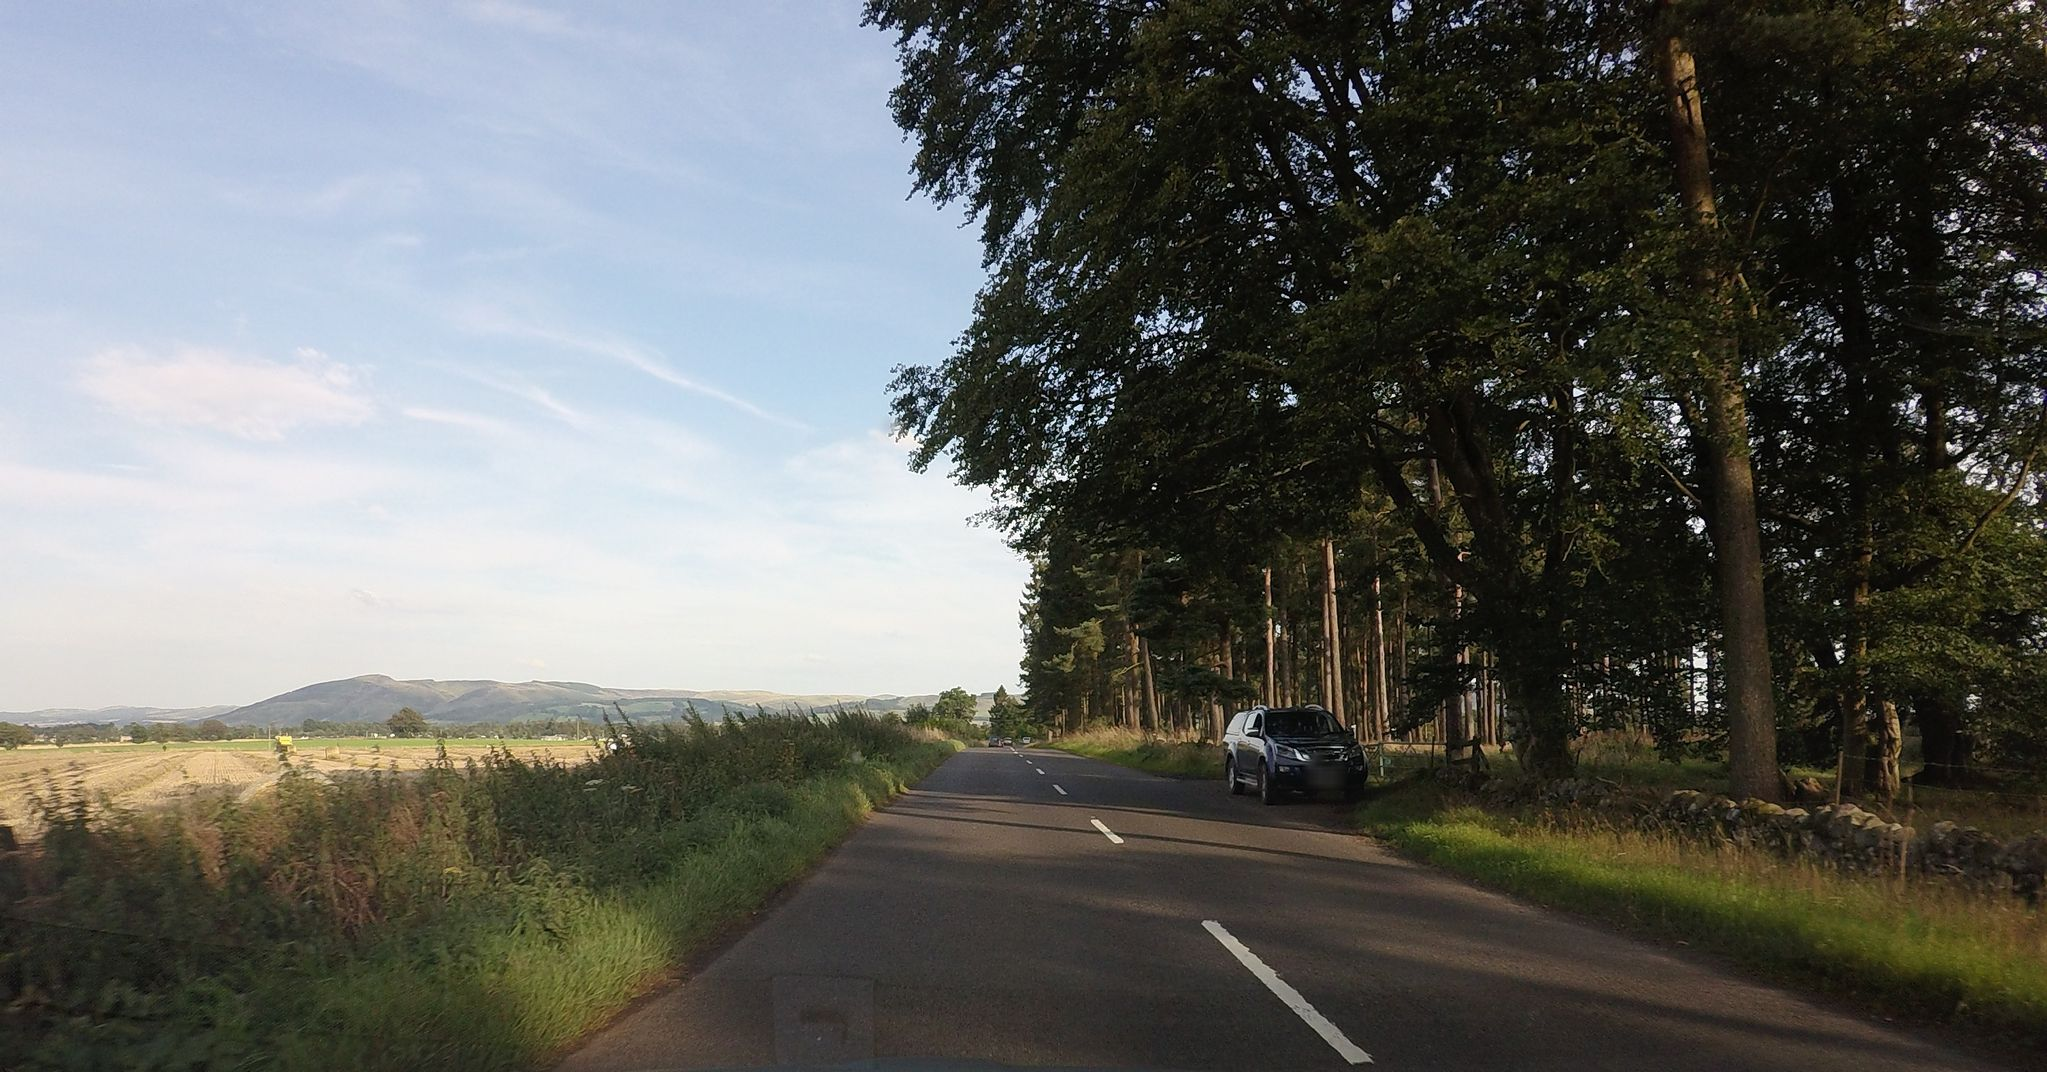car: (1223, 702, 1369, 803)
